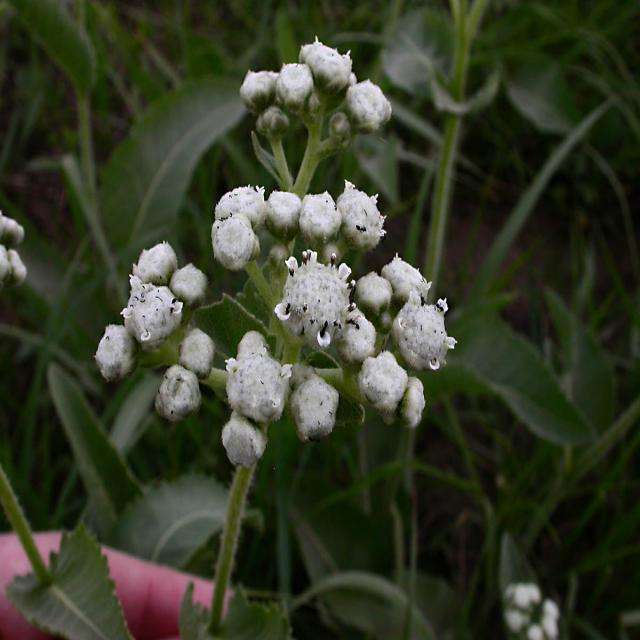Poisonous-Parthenium: (90, 231, 457, 462), (216, 26, 394, 227)
